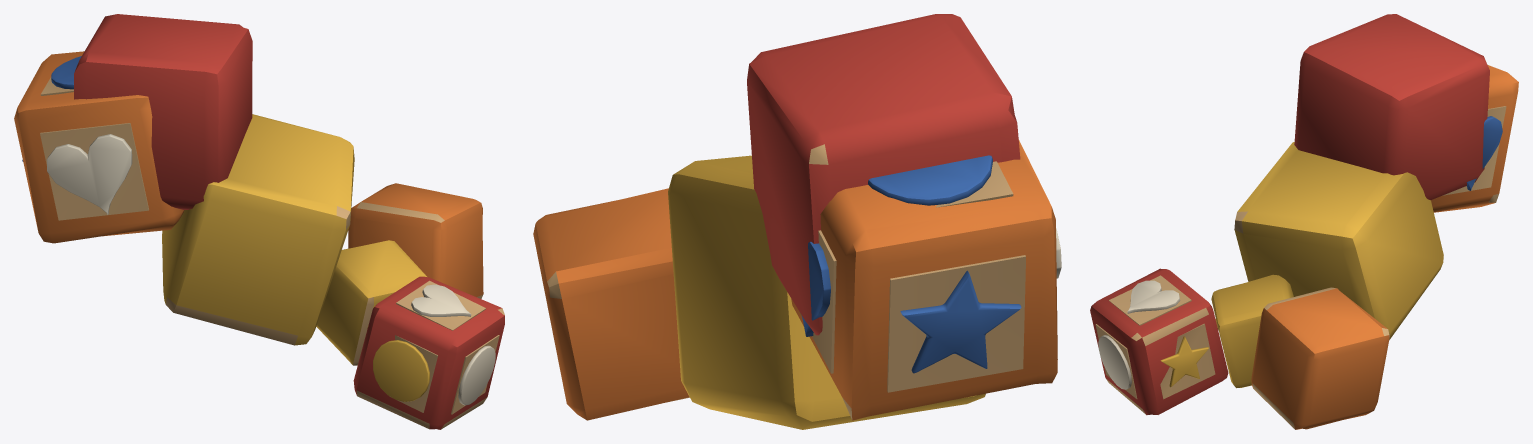
The model's file is den_toy_pile.glb.
The picture shows the model from 3 angles, left to right: view 1: azimuth 30°, elevation 25°; view 2: azimuth 150°, elevation 25°; view 3: azimuth 270°, elevation 25°; orthographic projection. The views are drawn at different scales.
Visible parts, largest first — view 1: den_toy_pile; view 2: den_toy_pile; view 3: den_toy_pile.
Boxes of the visible parts, box(x1,y1,x2,y2) form: den_toy_pile: box(14, 14, 504, 429); den_toy_pile: box(533, 14, 1061, 429); den_toy_pile: box(1090, 14, 1518, 429).
Bounding box in the file's own units: 6.53 × 4.87 × 6.57.
